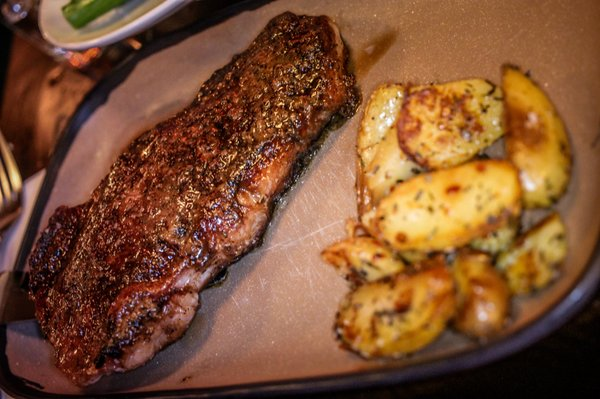pasta: (501, 66, 571, 209)
